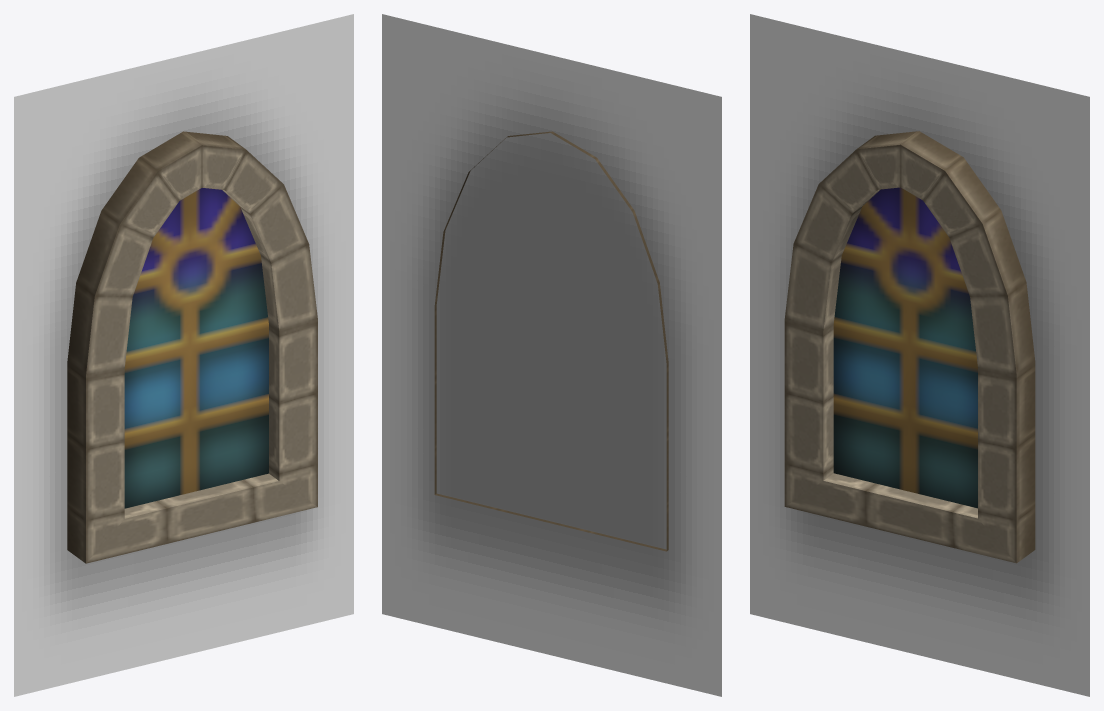
The model's file is Church window2.fbx.
The picture shows the model from 3 angles, left to right: view 1: azimuth 30°, elevation 25°; view 2: azimuth 150°, elevation 25°; view 3: azimuth 330°, elevation 25°; orthographic projection.
Parts seen in each view (by area): view 1: shadow, Church_window; view 2: shadow, Church_window; view 3: shadow, Church_window.
Boxes of the visible parts, bbox=[...] form: shadow: bbox=[14, 14, 353, 696]; Church_window: bbox=[67, 131, 317, 563]; shadow: bbox=[382, 14, 721, 696]; Church_window: bbox=[434, 131, 668, 551]; shadow: bbox=[750, 14, 1089, 696]; Church_window: bbox=[784, 131, 1035, 563].
Size of the model in its own units: 0.948 by 1.6 by 0.1.
